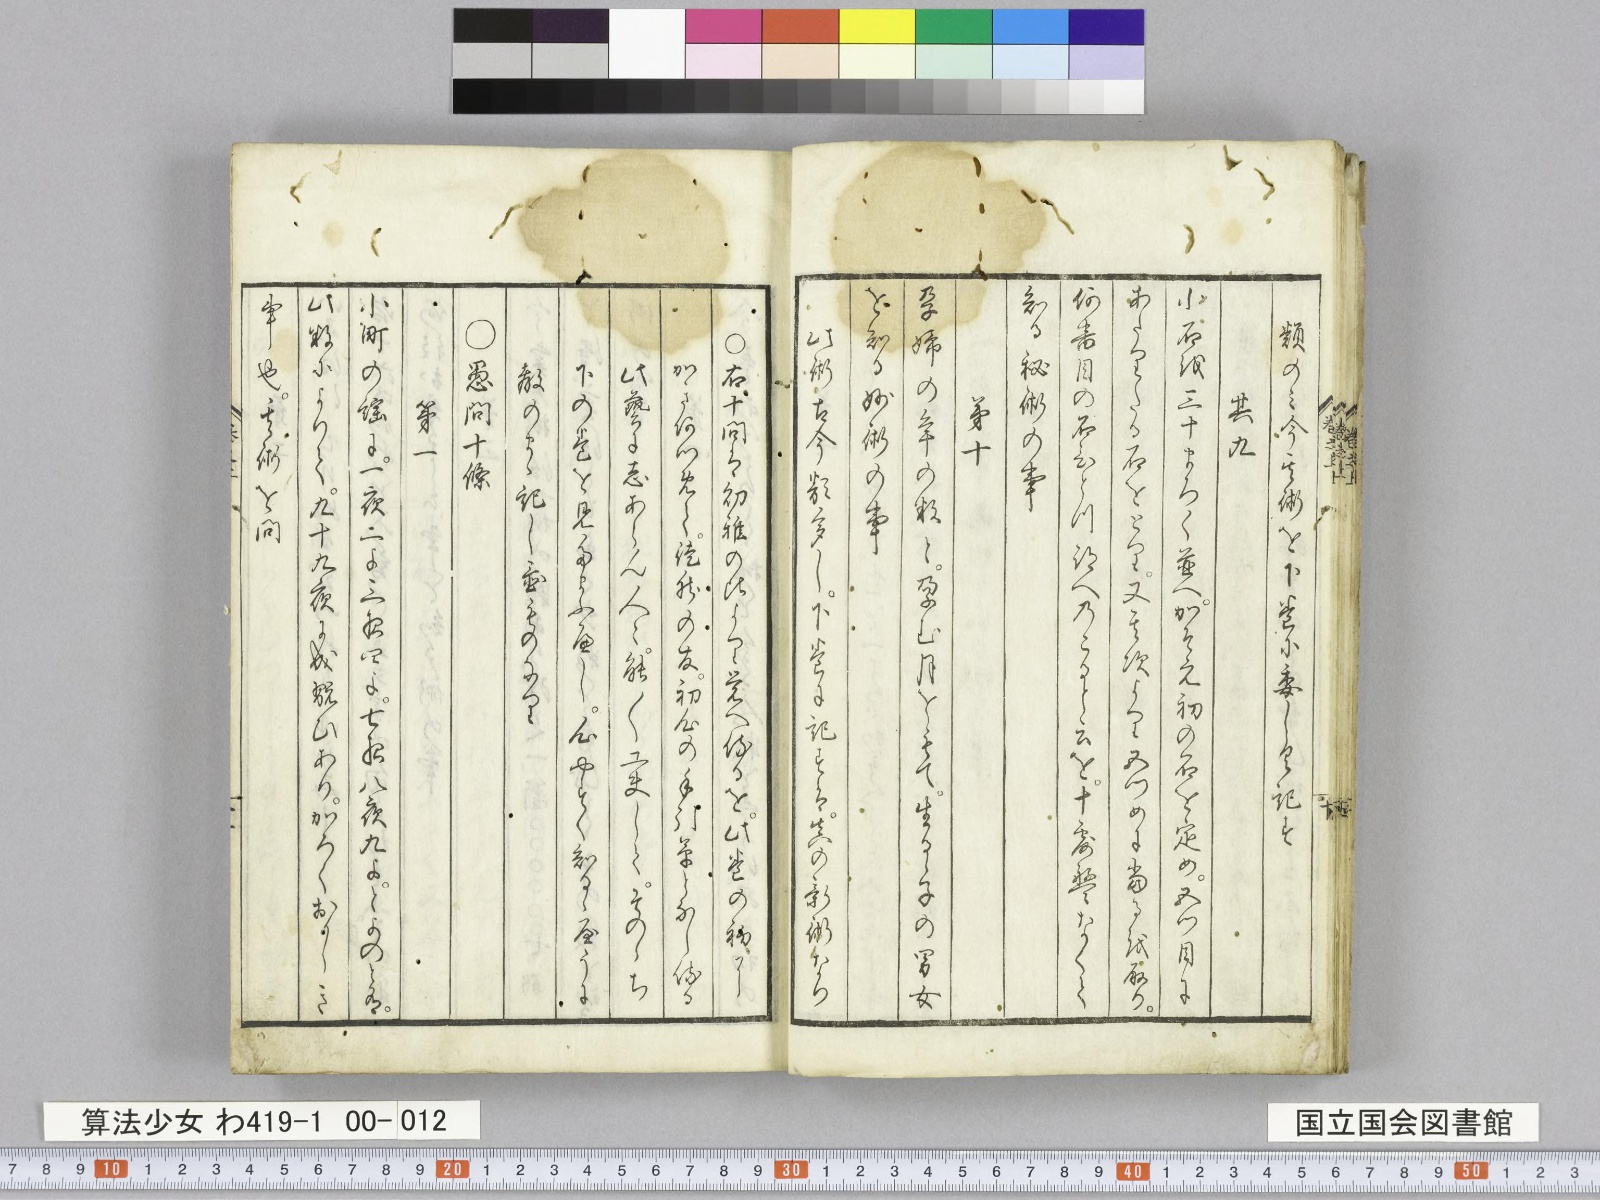1_overall: (232, 140, 1364, 1078)
2_handwritten: (913, 285, 942, 1008), (307, 297, 336, 1013), (1125, 284, 1151, 1013), (622, 352, 651, 1005), (1072, 290, 1097, 1013), (360, 296, 386, 1016), (1175, 286, 1199, 1005), (808, 328, 831, 1011), (727, 366, 752, 1005), (677, 358, 700, 1005), (574, 367, 598, 1005), (1279, 326, 1303, 855), (522, 362, 542, 724), (866, 285, 892, 555), (258, 296, 285, 545), (1022, 285, 1049, 512), (466, 354, 493, 495), (968, 392, 994, 475), (414, 392, 438, 466), (1230, 392, 1254, 461)
